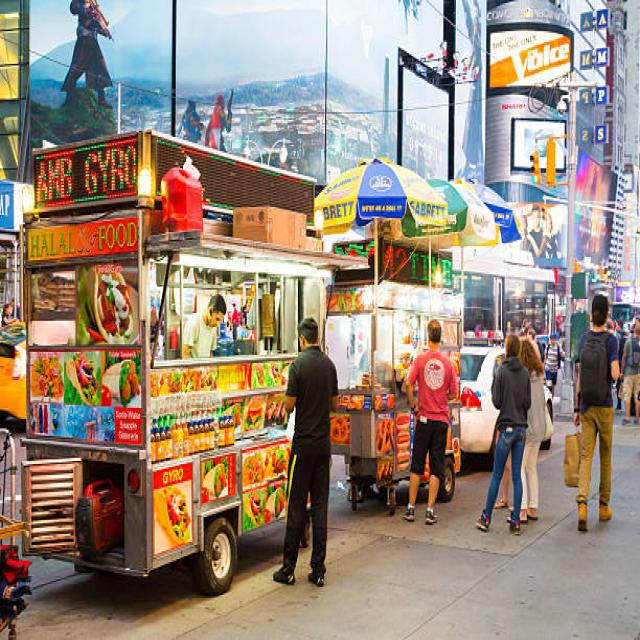Emperan: (0, 129, 376, 613), (310, 163, 525, 529)
